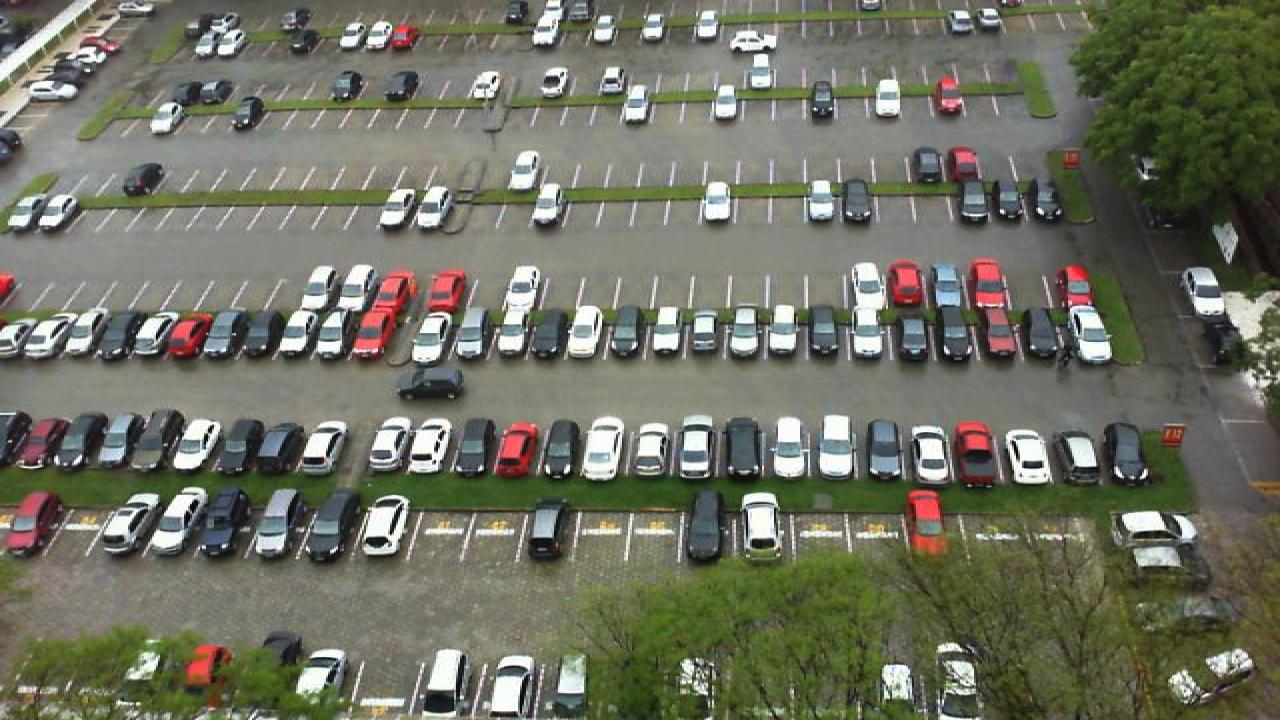Car: (930, 640, 986, 720), (150, 485, 210, 557), (250, 486, 308, 558), (198, 485, 254, 559), (416, 648, 472, 720), (306, 486, 358, 560), (478, 655, 534, 720), (290, 647, 348, 709), (902, 487, 952, 558), (98, 497, 158, 556), (104, 409, 160, 472), (12, 489, 64, 556), (356, 494, 410, 558), (736, 490, 782, 564), (576, 414, 626, 482), (814, 412, 860, 484), (62, 411, 118, 470), (950, 421, 1000, 487), (16, 416, 76, 470), (546, 651, 592, 720), (766, 414, 814, 480), (1104, 422, 1152, 487), (1126, 544, 1208, 582), (680, 488, 722, 562), (906, 424, 956, 486), (1054, 424, 1104, 486), (1110, 509, 1198, 544), (1064, 305, 1116, 364), (298, 417, 350, 476), (1002, 428, 1054, 487), (448, 415, 498, 475), (672, 414, 718, 478), (718, 415, 764, 479), (216, 418, 268, 474), (490, 420, 542, 476), (258, 417, 308, 475), (366, 414, 416, 472), (626, 417, 674, 477), (862, 418, 906, 482), (168, 416, 220, 470), (524, 499, 570, 560), (1018, 307, 1066, 363), (406, 417, 454, 472), (184, 644, 234, 696), (394, 366, 466, 402), (536, 418, 578, 478), (98, 309, 146, 361), (134, 309, 182, 361), (890, 304, 932, 362), (62, 309, 110, 359), (846, 304, 888, 361), (1188, 266, 1232, 320), (408, 310, 452, 364), (974, 306, 1018, 360), (934, 304, 974, 362), (564, 304, 606, 359), (26, 312, 76, 358), (206, 309, 252, 359), (350, 307, 394, 359), (970, 259, 1012, 313), (450, 308, 492, 362), (686, 304, 726, 360), (728, 304, 768, 360), (806, 304, 846, 359), (930, 256, 970, 310), (646, 305, 686, 359), (528, 308, 568, 361), (608, 306, 648, 359), (498, 263, 540, 313), (768, 305, 806, 360), (488, 309, 528, 361), (422, 269, 466, 315), (168, 313, 212, 359), (36, 191, 84, 233), (244, 309, 284, 359), (280, 309, 320, 359), (888, 259, 928, 308), (2, 191, 48, 233), (374, 269, 416, 315), (846, 261, 886, 309), (316, 309, 354, 359), (0, 314, 40, 360), (1060, 261, 1098, 309), (528, 180, 566, 227), (698, 180, 738, 224), (338, 264, 376, 310), (376, 186, 416, 229), (412, 185, 450, 229), (802, 178, 840, 222), (304, 264, 342, 308), (840, 176, 876, 222), (992, 176, 1028, 221), (1030, 176, 1066, 221), (0, 410, 30, 464), (618, 83, 654, 125), (120, 163, 164, 197), (956, 178, 990, 222), (908, 145, 946, 183), (506, 150, 542, 189), (150, 100, 188, 136), (932, 75, 964, 117), (744, 52, 778, 91), (872, 77, 904, 118), (728, 29, 780, 54), (230, 97, 266, 133), (382, 68, 420, 102), (806, 80, 838, 120), (710, 81, 742, 120), (948, 145, 982, 181), (468, 68, 502, 102), (330, 70, 366, 102), (594, 65, 628, 97), (538, 65, 570, 98), (334, 21, 368, 52), (530, 11, 560, 46), (692, 7, 724, 39), (586, 10, 616, 43), (638, 9, 668, 42), (942, 7, 976, 36), (366, 20, 396, 51), (190, 28, 220, 59), (972, 4, 1004, 33), (216, 27, 246, 57), (388, 24, 420, 52)
